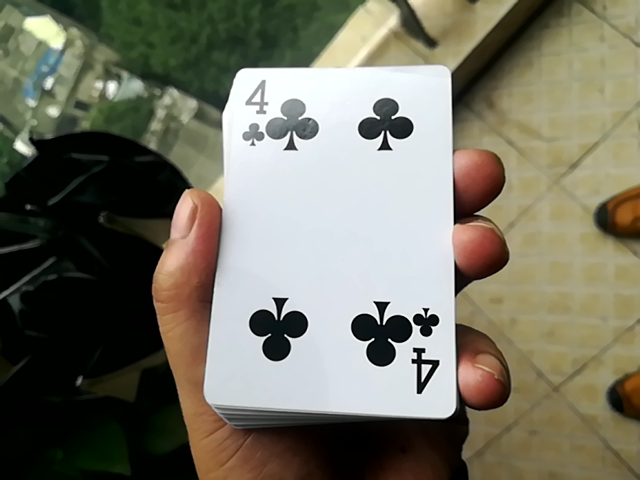mh 4: (197, 57, 457, 421)
